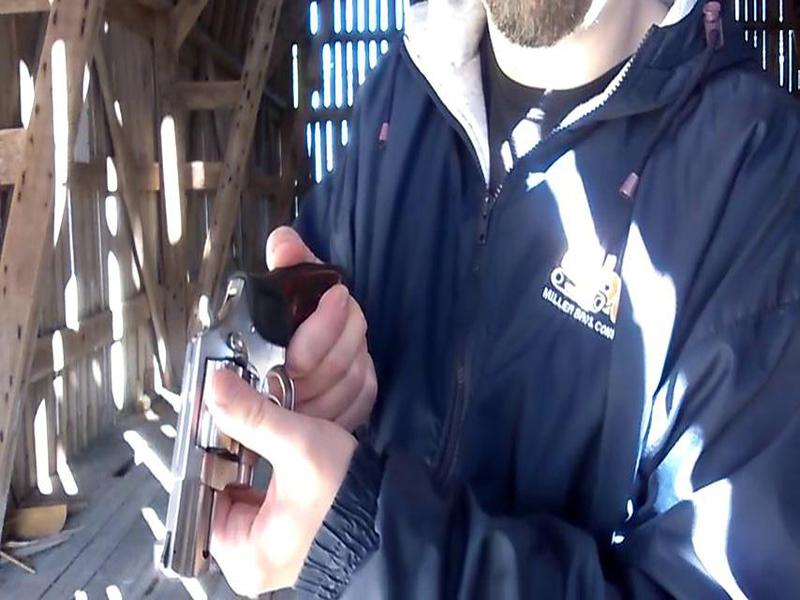Revolver: (140, 246, 363, 584)
